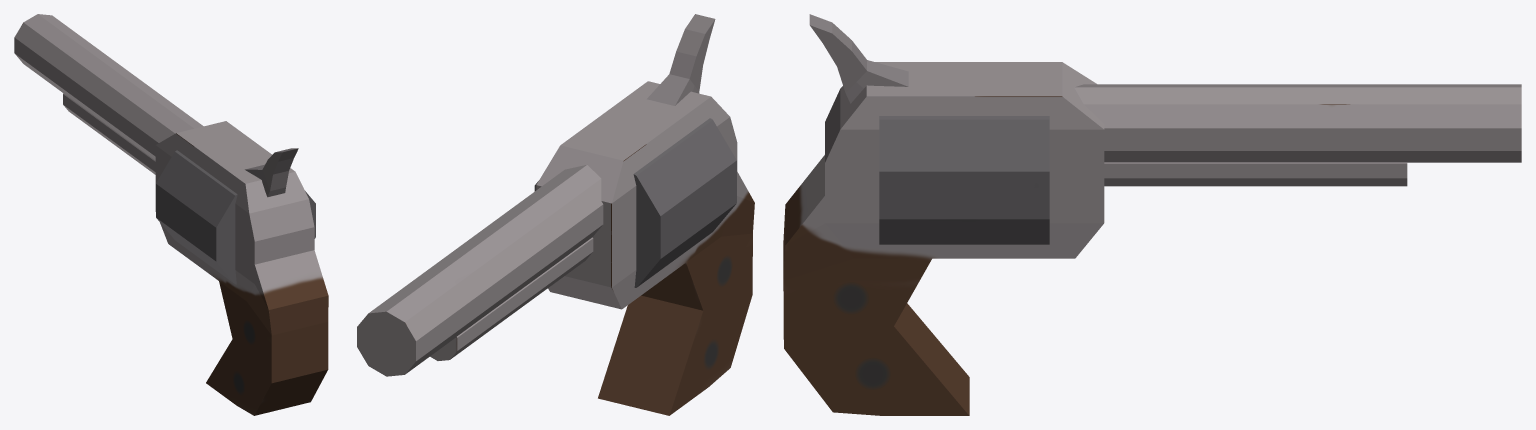
Rendered from revolver2.fbx.
3 views of the same model, side by side, from view 1: azimuth 30°, elevation 25°; view 2: azimuth 150°, elevation 25°; view 3: azimuth 270°, elevation 25° (orthographic). The views are drawn at different scales.
Visible parts, largest first — view 1: Cube.001, Cylinder.001, Cube.002; view 2: Cube.001, Cylinder.001, Cube.002; view 3: Cube.001, Cylinder.001, Cube.002.
Boxes of the visible parts, x1=… form: Cube.001: x1=14, y1=14, x2=328, y2=415; Cylinder.001: x1=156, y1=150, x2=315, y2=284; Cube.002: x1=245, y1=148, x2=298, y2=197; Cube.001: x1=357, y1=81, x2=754, y2=415; Cylinder.001: x1=534, y1=118, x2=736, y2=287; Cube.002: x1=647, y1=14, x2=715, y2=105; Cube.001: x1=783, y1=62, x2=1521, y2=415; Cylinder.001: x1=879, y1=116, x2=1049, y2=244; Cube.002: x1=809, y1=14, x2=908, y2=103.
Size of the model in its own units: 0.1786 by 0.4583 by 0.8133.
3 materials, 3 textured.
